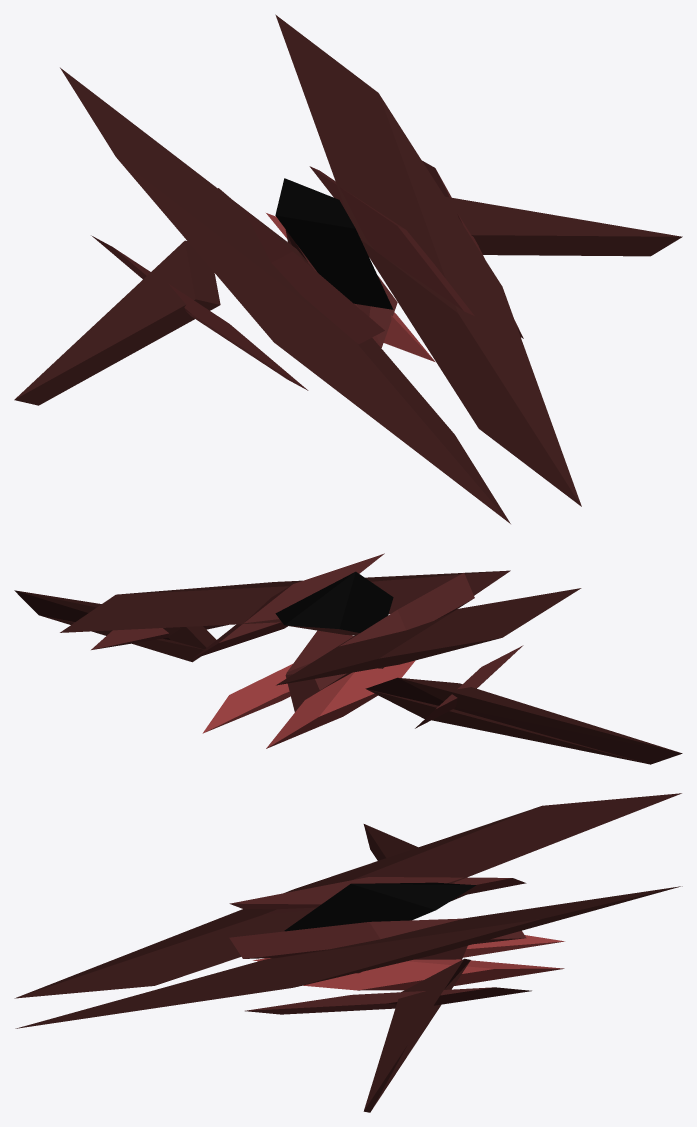
The picture shows the model from 3 angles, top to bottom: view 1: azimuth 30°, elevation 25°; view 2: azimuth 150°, elevation 25°; view 3: azimuth 270°, elevation 25°; orthographic projection. The views are drawn at different scales.
Visible parts, largest first — view 1: LowPolySpaceship06; view 2: LowPolySpaceship06; view 3: LowPolySpaceship06.
Boxes of the visible parts, bbox=[...] form: LowPolySpaceship06: bbox=[14, 14, 682, 523]; LowPolySpaceship06: bbox=[14, 553, 682, 764]; LowPolySpaceship06: bbox=[14, 793, 682, 1112].
Bounding box in the file's own units: 4.87 × 1.38 × 4.78.
